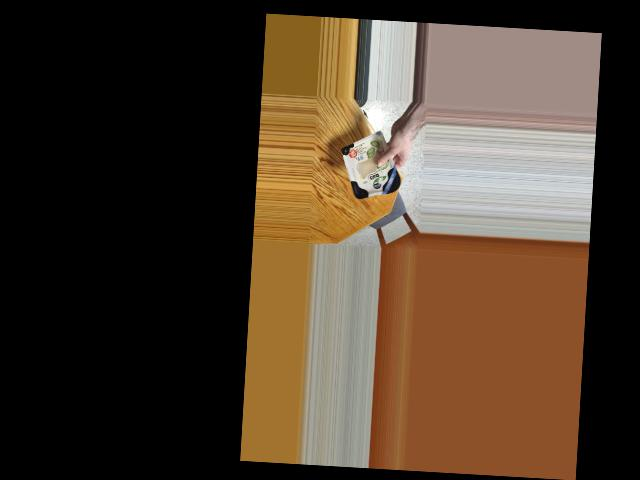cheese: (341, 140, 400, 204)
